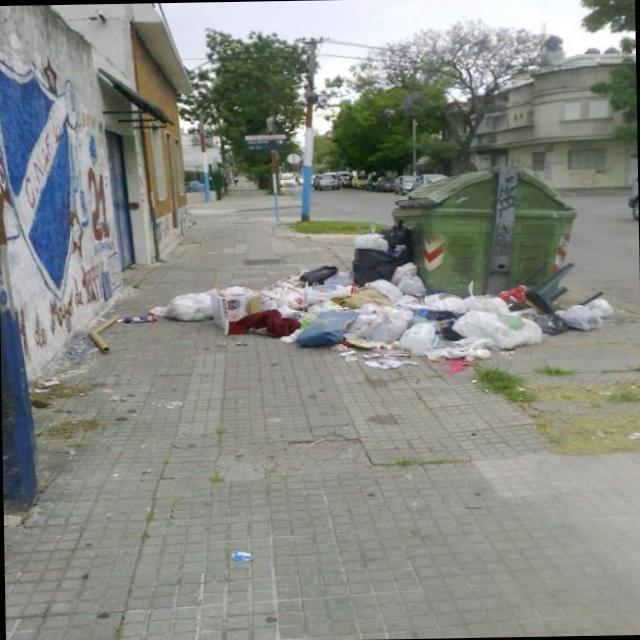garbage: (209, 258, 552, 378)
